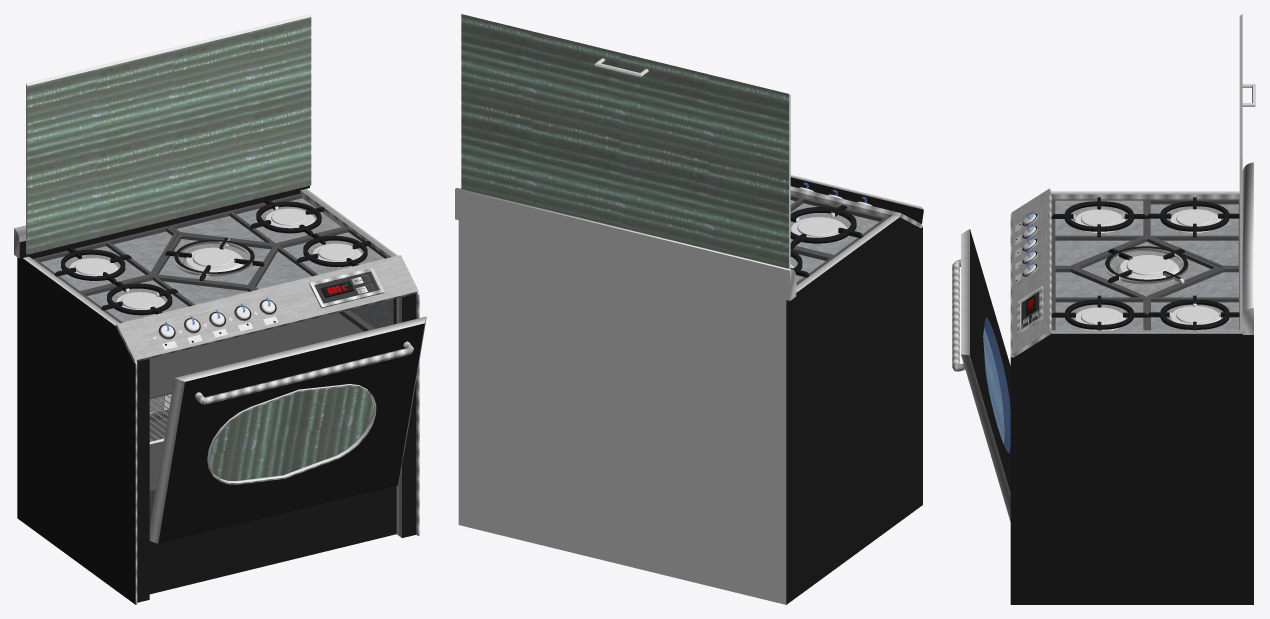
Rendered from cuisiniere.glb.
The picture shows the model from 3 angles, left to right: view 1: azimuth 30°, elevation 25°; view 2: azimuth 150°, elevation 25°; view 3: azimuth 270°, elevation 25°; orthographic projection. The views are drawn at different scales.
Parts seen in each view (by area): view 1: _G-Object.021 (Loose Mesh), C-Groupe#95, C-Groupe#85, G-Object.024, G-Object.028, G-Object.019, G-Object.018, G-Object.026, G-Object.020, G-Object.017, G-Object.022, G-Object.015 (+3 smaller); view 2: _G-Object.021 (Loose Mesh), C-Groupe#95, G-Object.026, C-Groupe#85, G-Object.014; view 3: _G-Object.021 (Loose Mesh), C-Groupe#85, G-Object.026, G-Object.018, G-Object.019, G-Object.020, G-Object.028, C-Groupe#95, G-Object.017, G-Object.015, G-Object.027, G-Object.016 (+1 smaller).
Boxes of the visible parts, bbox=[...] form: _G-Object.021 (Loose Mesh): bbox=[14, 186, 419, 604]; C-Groupe#95: bbox=[26, 14, 311, 254]; C-Groupe#85: bbox=[149, 316, 426, 543]; G-Object.024: bbox=[149, 310, 374, 399]; G-Object.028: bbox=[168, 193, 346, 244]; G-Object.019: bbox=[33, 226, 177, 292]; G-Object.018: bbox=[152, 233, 277, 286]; G-Object.026: bbox=[79, 275, 254, 323]; G-Object.020: bbox=[251, 227, 387, 290]; G-Object.017: bbox=[183, 247, 243, 272]; G-Object.022: bbox=[149, 409, 168, 491]; G-Object.015: bbox=[263, 208, 315, 228]; _G-Object.021 (Loose Mesh): bbox=[455, 186, 922, 604]; C-Groupe#95: bbox=[461, 14, 790, 268]; G-Object.026: bbox=[790, 194, 888, 257]; C-Groupe#85: bbox=[790, 175, 923, 223]; G-Object.014: bbox=[790, 217, 847, 243]; _G-Object.021 (Loose Mesh): bbox=[1010, 162, 1253, 604]; C-Groupe#85: bbox=[952, 229, 1010, 521]; G-Object.026: bbox=[1051, 197, 1146, 267]; G-Object.018: bbox=[1072, 236, 1220, 298]; G-Object.019: bbox=[1147, 197, 1239, 267]; G-Object.020: bbox=[1051, 267, 1147, 330]; G-Object.028: bbox=[1147, 267, 1239, 330]; C-Groupe#95: bbox=[1239, 14, 1255, 331]; G-Object.017: bbox=[1116, 255, 1179, 279]; G-Object.015: bbox=[1168, 306, 1221, 330]; G-Object.027: bbox=[1073, 307, 1125, 330]; G-Object.016: bbox=[1168, 209, 1221, 232].
Size of the model in its own units: 1.15 by 1.66 by 1.01.
Materials: 18 (10 with a texture image).
